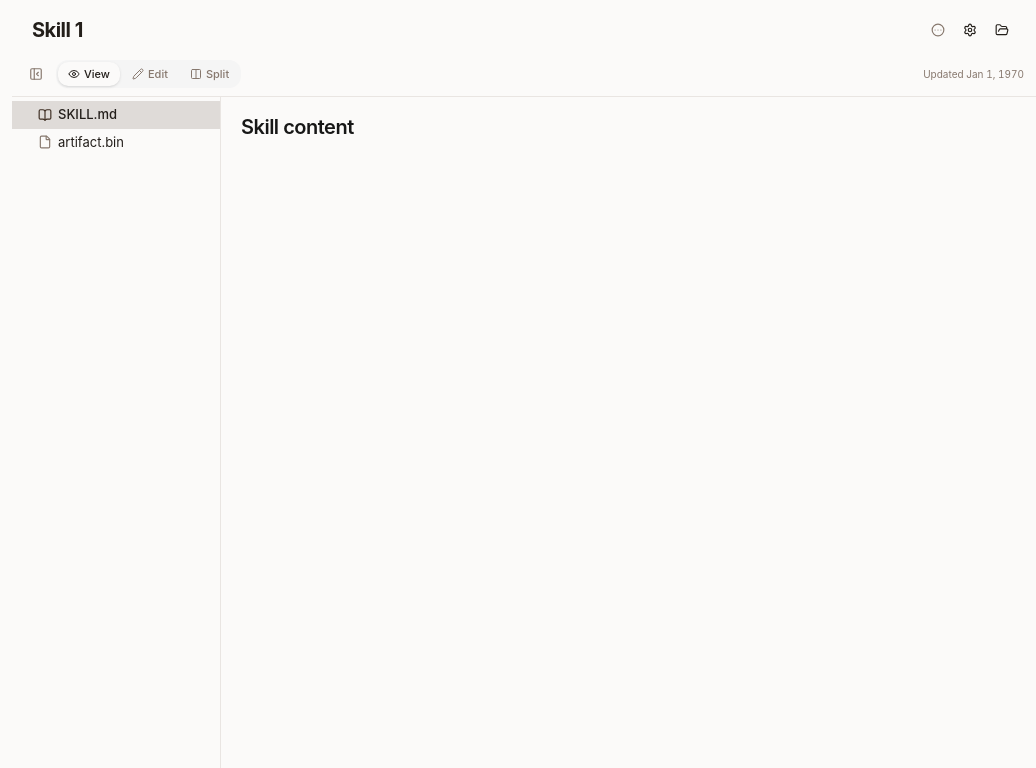
Test: SkillDetail › shows binary file notice from structured file errors
Step 1. Click the button "artifact.bin" → x=116, y=142, box left=12, top=128, right=220, bottom=156
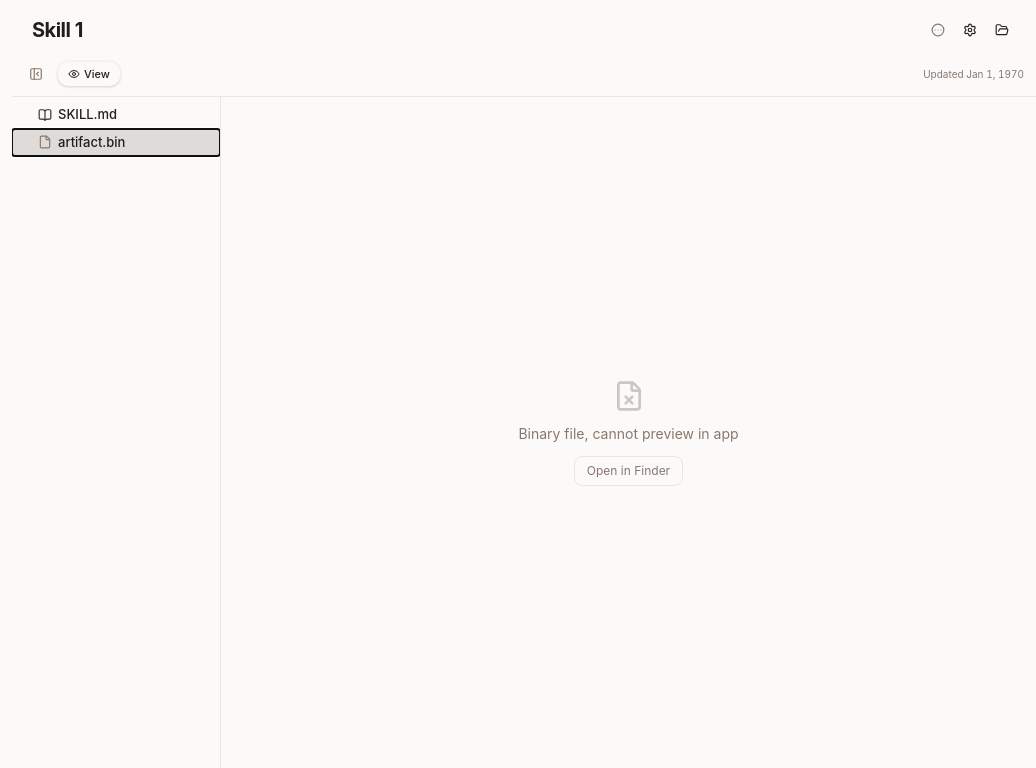
Now the text "Binary file, cannot preview in app" is shown, box left=518, top=424, right=739, bottom=444
Now the button "Edit" is gone
Now the button "Split" is gone
